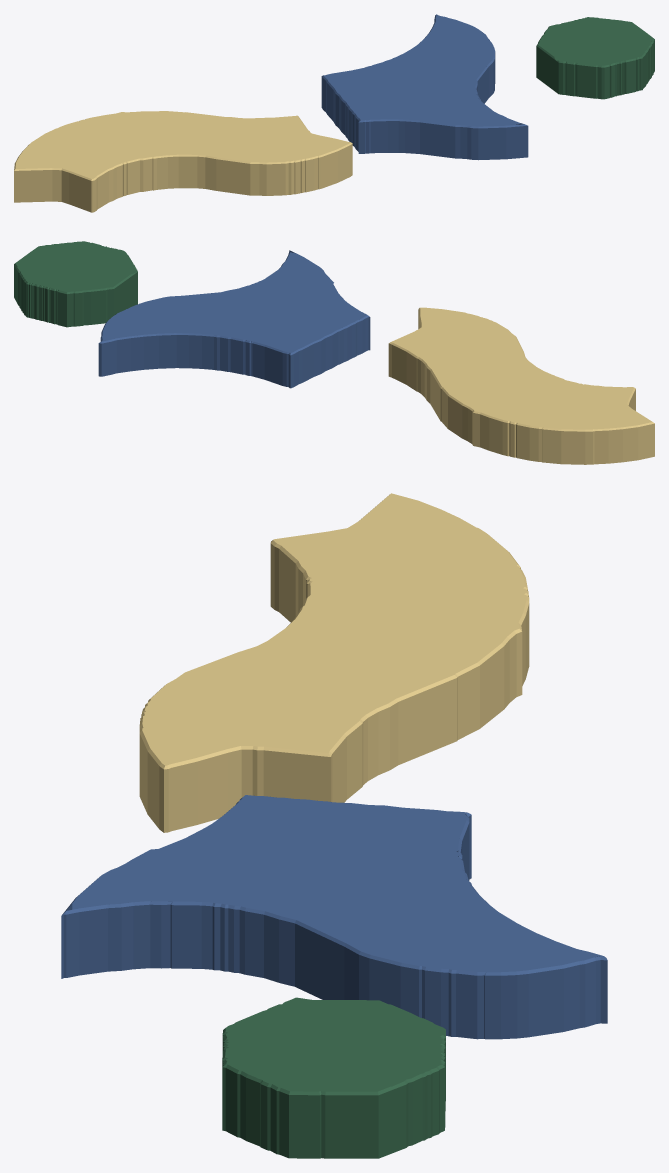
File: mahsulot.glb
3 views of the same model, one above another, from view 1: azimuth 30°, elevation 25°; view 2: azimuth 150°, elevation 25°; view 3: azimuth 270°, elevation 25° (orthographic). The views are drawn at different scales.
Parts seen in each view (by area): view 1: mahsulot_A, mahsulot_B, mahsulot_V; view 2: mahsulot_A, mahsulot_B, mahsulot_V; view 3: mahsulot_B, mahsulot_A, mahsulot_V.
Part boxes in pixels (x1,y1,x2,y2): mahsulot_A: (14, 111, 352, 212); mahsulot_B: (321, 14, 528, 160); mahsulot_V: (536, 17, 654, 99); mahsulot_A: (388, 307, 654, 464); mahsulot_B: (98, 250, 370, 388); mahsulot_V: (14, 241, 137, 327); mahsulot_B: (61, 795, 607, 1039); mahsulot_A: (139, 493, 529, 832); mahsulot_V: (222, 997, 445, 1158).
Bounding box in the file's own units: 0.7825 × 0.04 × 0.3005.
